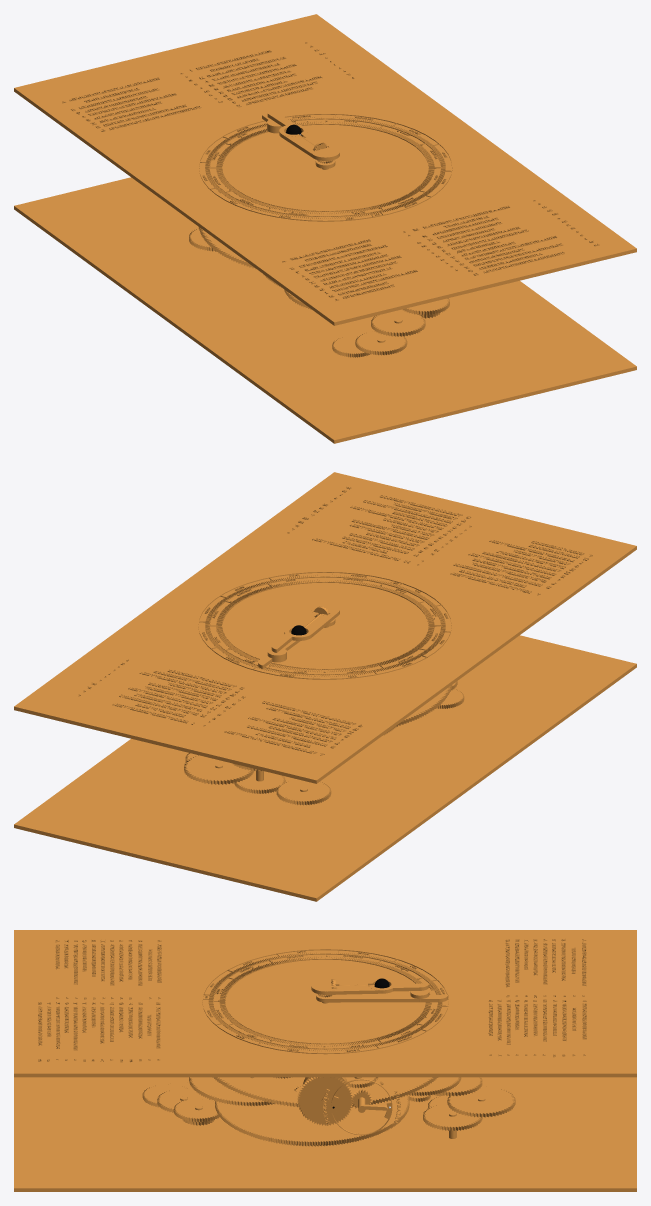
The picture shows the model from 3 angles, top to bottom: view 1: azimuth 30°, elevation 25°; view 2: azimuth 150°, elevation 25°; view 3: azimuth 270°, elevation 25°; orthographic projection. The views are drawn at different scales.
Visible parts, largest first — view 1: Object_112, Moon_15, g1_53, h1_55; view 2: Object_112, p1_41, Moon_15, o1_44, n3_40; view 3: Object_112, e3_45, b1_28, r1_8, d2_37, p1_41, Moon_15, Sun_19, q1_43, f1_51, m1_35, g1_53 (+2 smaller).
Boxes of the visible parts, box(x1,y1,x2,y2) form: Object_112: box(14, 14, 636, 443); Moon_15: box(267, 112, 339, 160); g1_53: box(371, 310, 425, 336); h1_55: box(355, 331, 407, 355); Object_112: box(14, 472, 636, 901); p1_41: box(184, 755, 253, 784); Moon_15: box(271, 603, 339, 652); o1_44: box(276, 779, 331, 805); n3_40: box(234, 770, 285, 793); Object_112: box(14, 930, 636, 1191); e3_45: box(215, 1095, 409, 1145); b1_28: box(212, 1077, 438, 1107); r1_8: box(297, 1077, 353, 1125); d2_37: box(189, 1077, 305, 1106); p1_41: box(447, 1086, 515, 1117); Moon_15: box(311, 978, 429, 994); Sun_19: box(316, 989, 448, 1002); q1_43: box(423, 1103, 482, 1130); f1_51: box(173, 1098, 219, 1122); m1_35: box(376, 1077, 461, 1095); g1_53: box(157, 1088, 210, 1112).
Size of the model in its own units: 0.182 by 0.0917 by 0.33.
